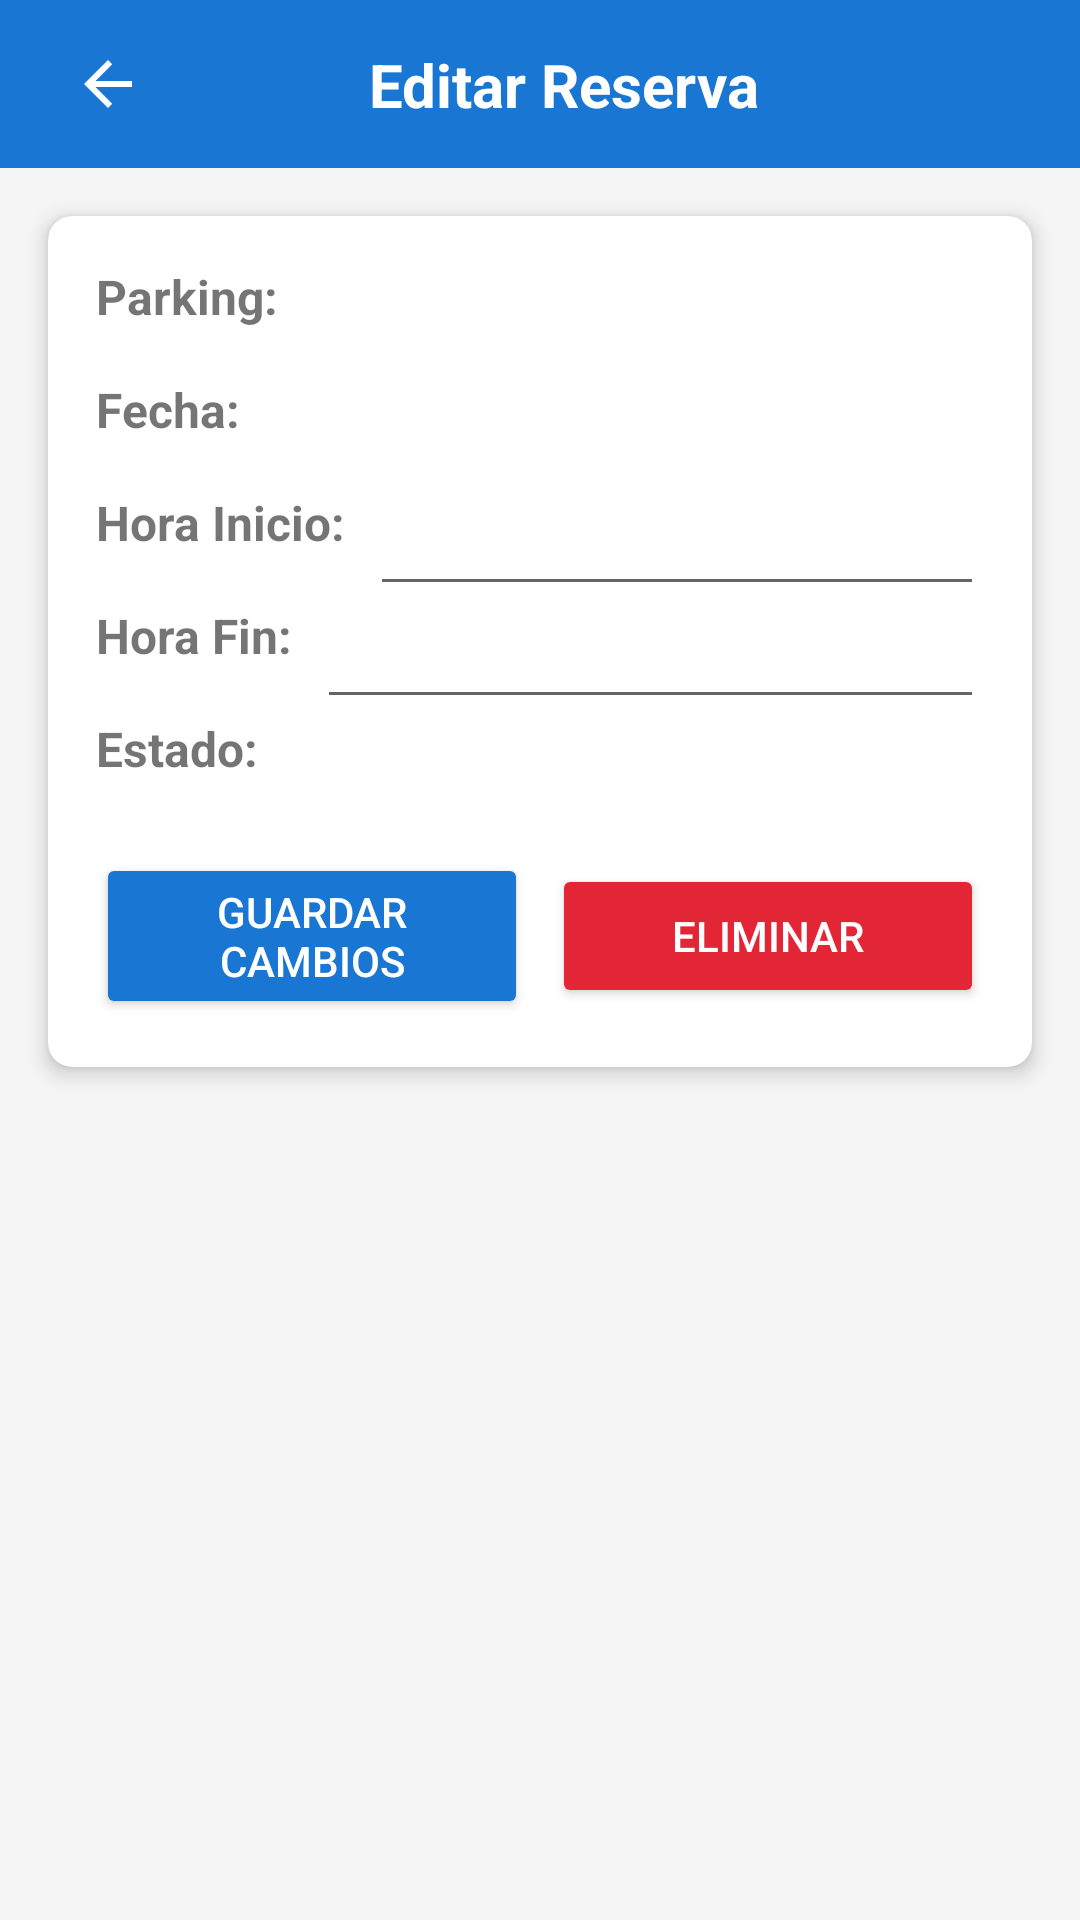

Where icons sit on this 1080*1920 app screen, as [left=x1, top=y1, right=x2, bottom=y2]:
Volver: [left=84, top=60, right=132, bottom=108]
